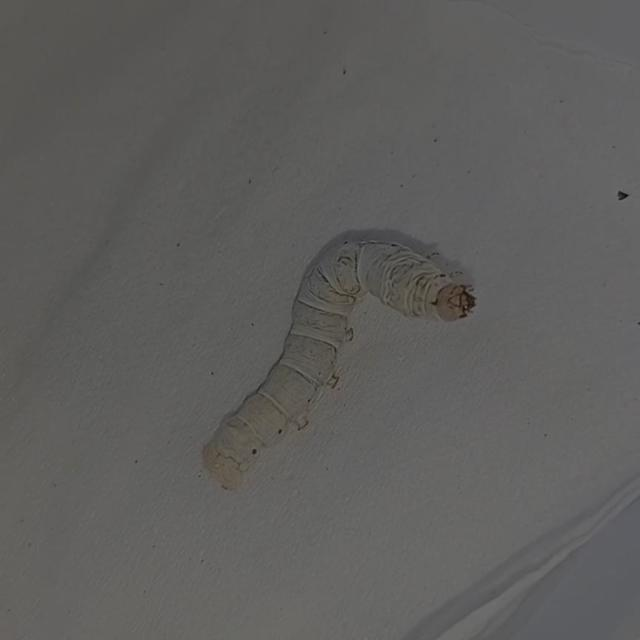Healthy: (187, 208, 503, 539)
